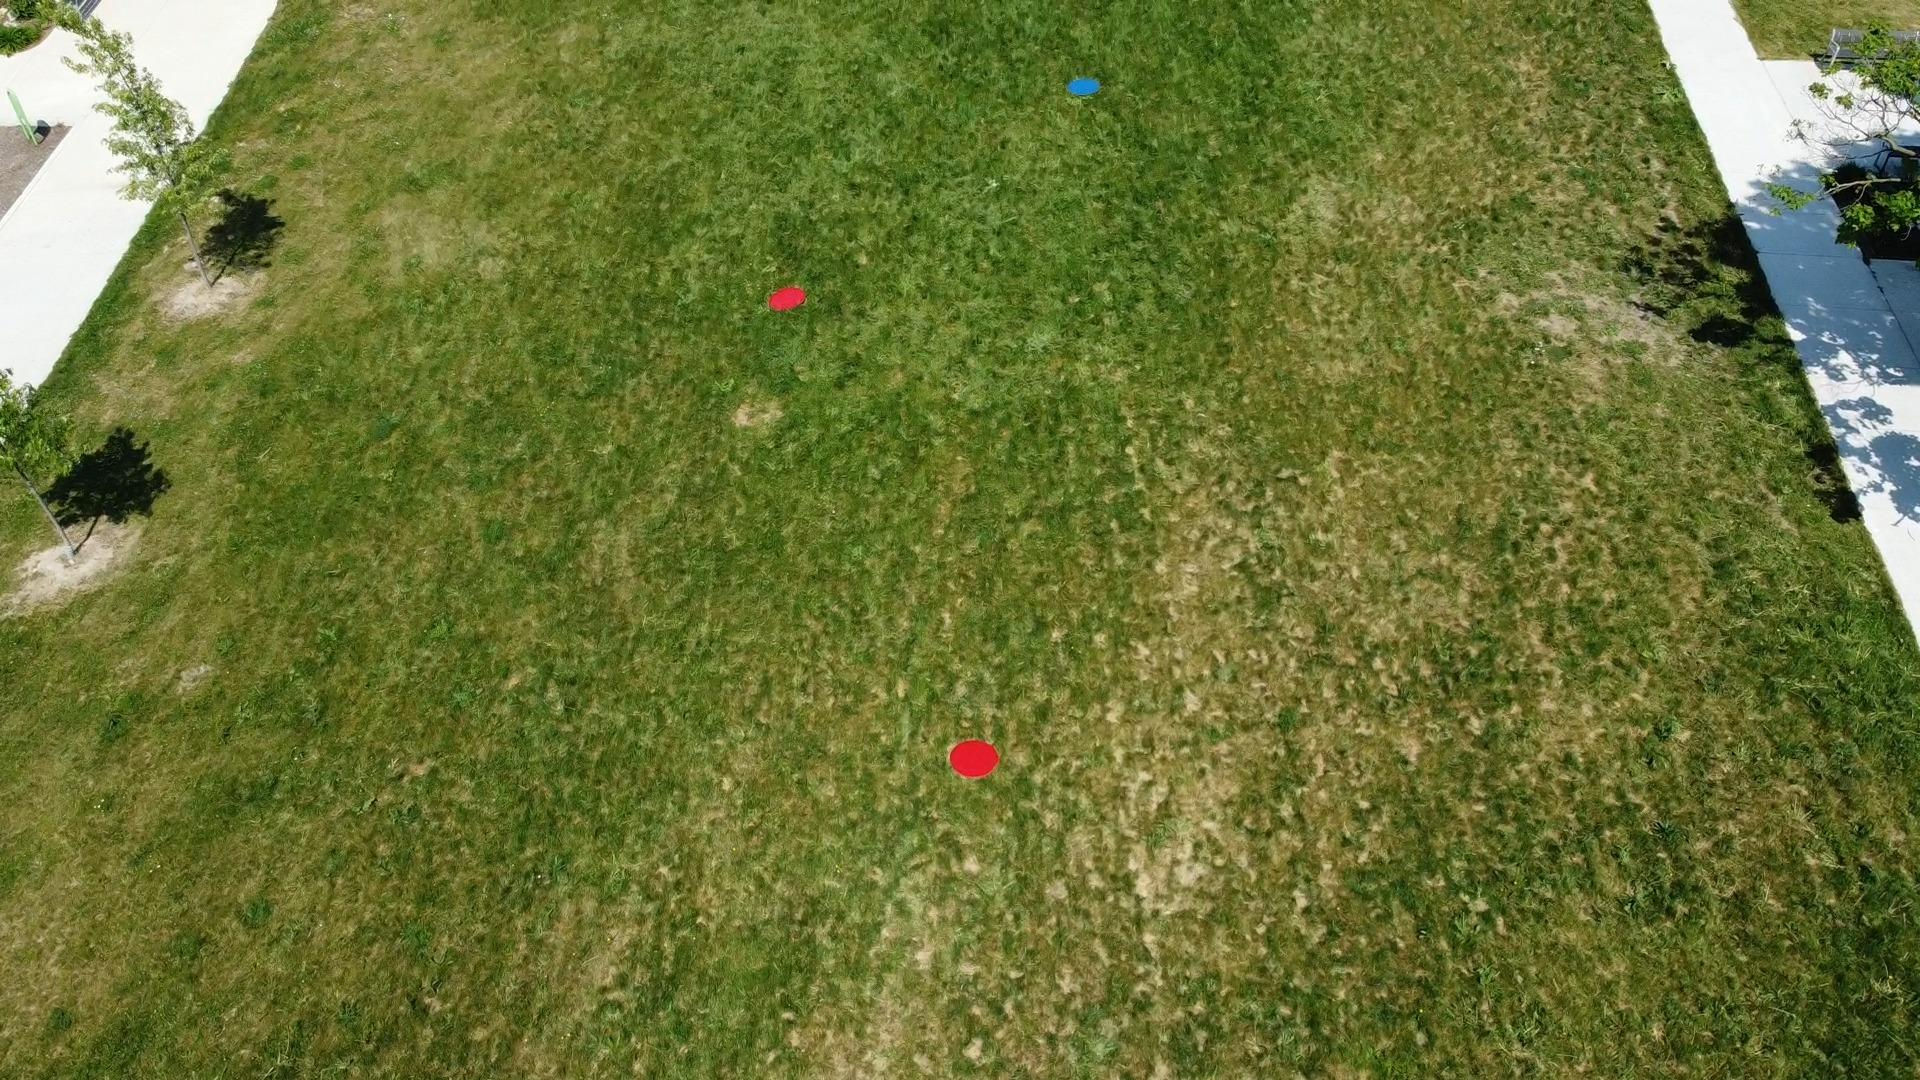Blue: (1063, 76, 1104, 100)
Red: (947, 736, 1002, 781), (766, 286, 812, 316)
